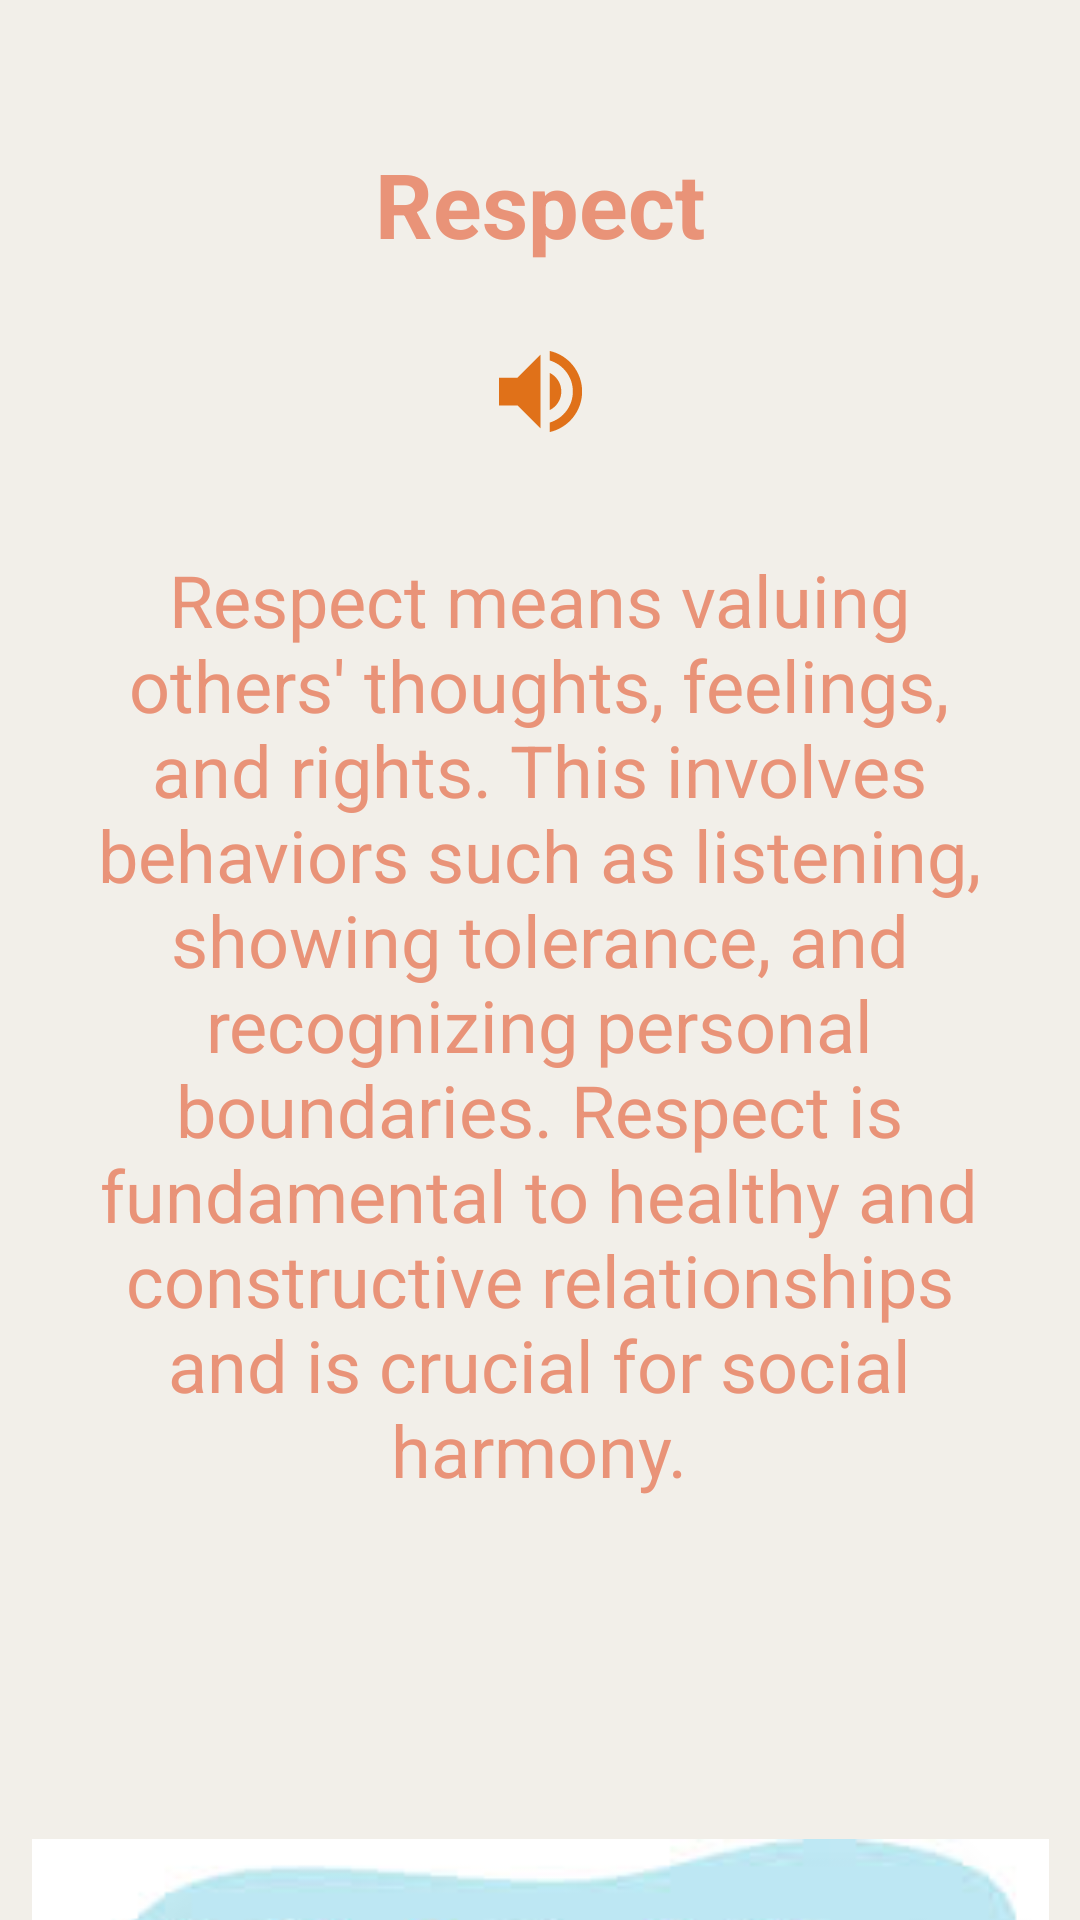

Icon click points for this 1080*1920 phone screenshot, format (x=x, y=y):
volume up: (x=540, y=391)
